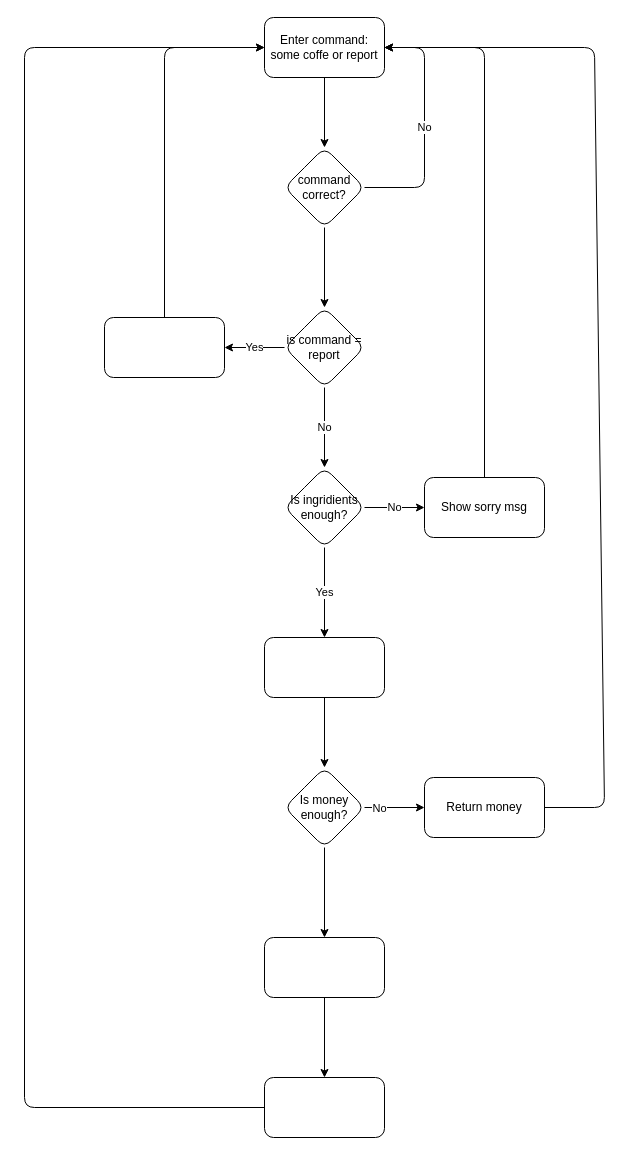
This 630x1155 diagram has some shape labels left out. The shapes that lost their labels are listed below. From the top down, each one's centre as x and y in pixels, then its label:
the point at 164,347: show report
the point at 324,667: Ask to enter money: 50, 100, 200, 500, 1000, 2000, 5000
the point at 324,967: Caculate and return change
the point at 324,1107: Make a coffe
